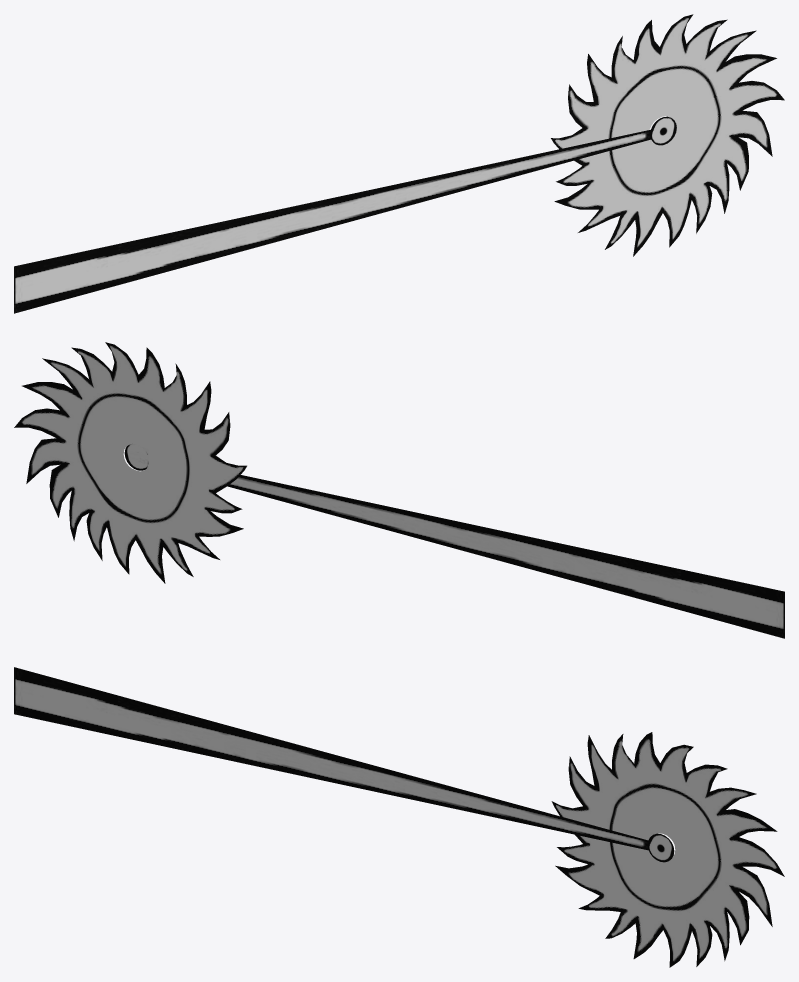
File: prop_chainSaw_02.fbx
3 views of the same model, one above another, from view 1: azimuth 30°, elevation 25°; view 2: azimuth 150°, elevation 25°; view 3: azimuth 330°, elevation 25° (orthographic).
Parts seen in each view (by area): view 1: sawBlade, sawHandle; view 2: sawBlade, sawHandle; view 3: sawBlade, sawHandle.
Part boxes in pixels (box(x1,y1,x2,y2)): sawBlade: box(551, 14, 784, 256); sawHandle: box(14, 116, 676, 313); sawBlade: box(14, 342, 246, 583); sawHandle: box(124, 444, 784, 638); sawBlade: box(551, 732, 784, 967); sawHandle: box(14, 667, 674, 862).
Bounding box in the file's own units: 491 × 142 × 1.61.
